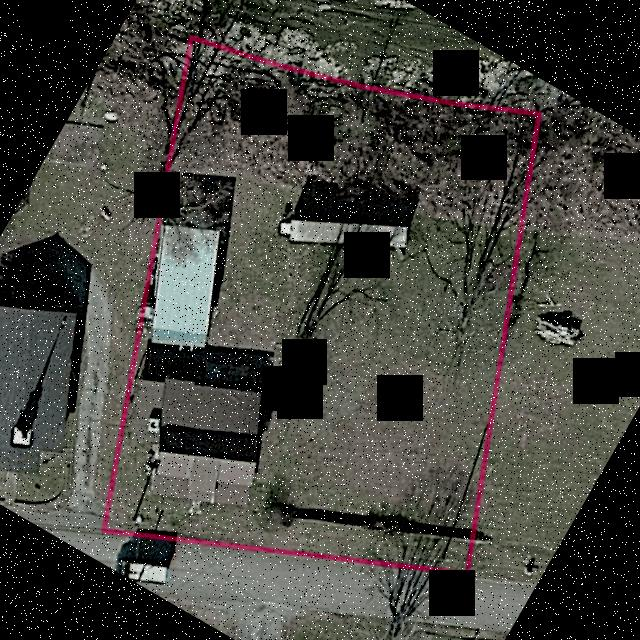House: (151, 377, 260, 504), (151, 225, 218, 345)
Other: (279, 218, 408, 247)
